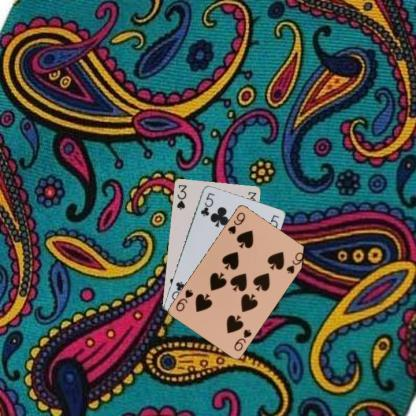3s: (174, 182, 188, 211)
5c: (198, 190, 216, 217)
9s: (224, 209, 247, 235), (231, 326, 253, 352)
